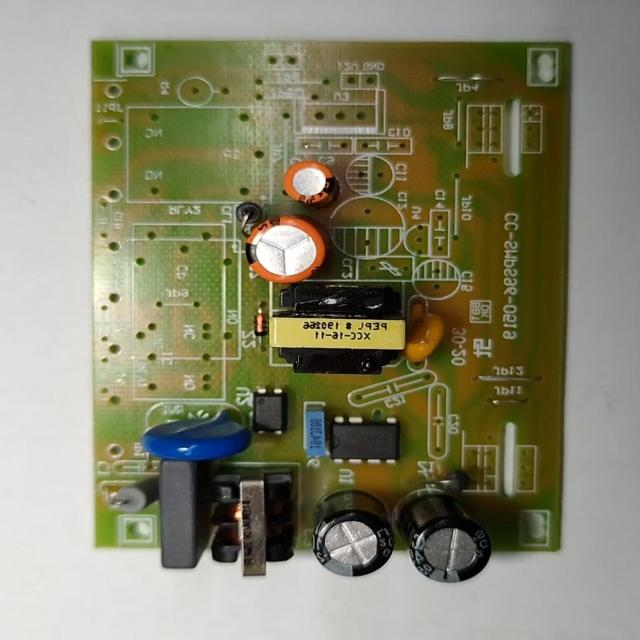Cap1: (244, 211, 326, 284)
Cap2: (282, 158, 333, 204)
Cap3: (311, 485, 395, 580)
Cap4: (404, 493, 493, 585)
MOSFET: (329, 414, 398, 466)
Mov: (140, 405, 256, 461)
Resistor: (110, 476, 156, 514)
Transformer: (274, 282, 408, 377), (202, 464, 296, 580)
